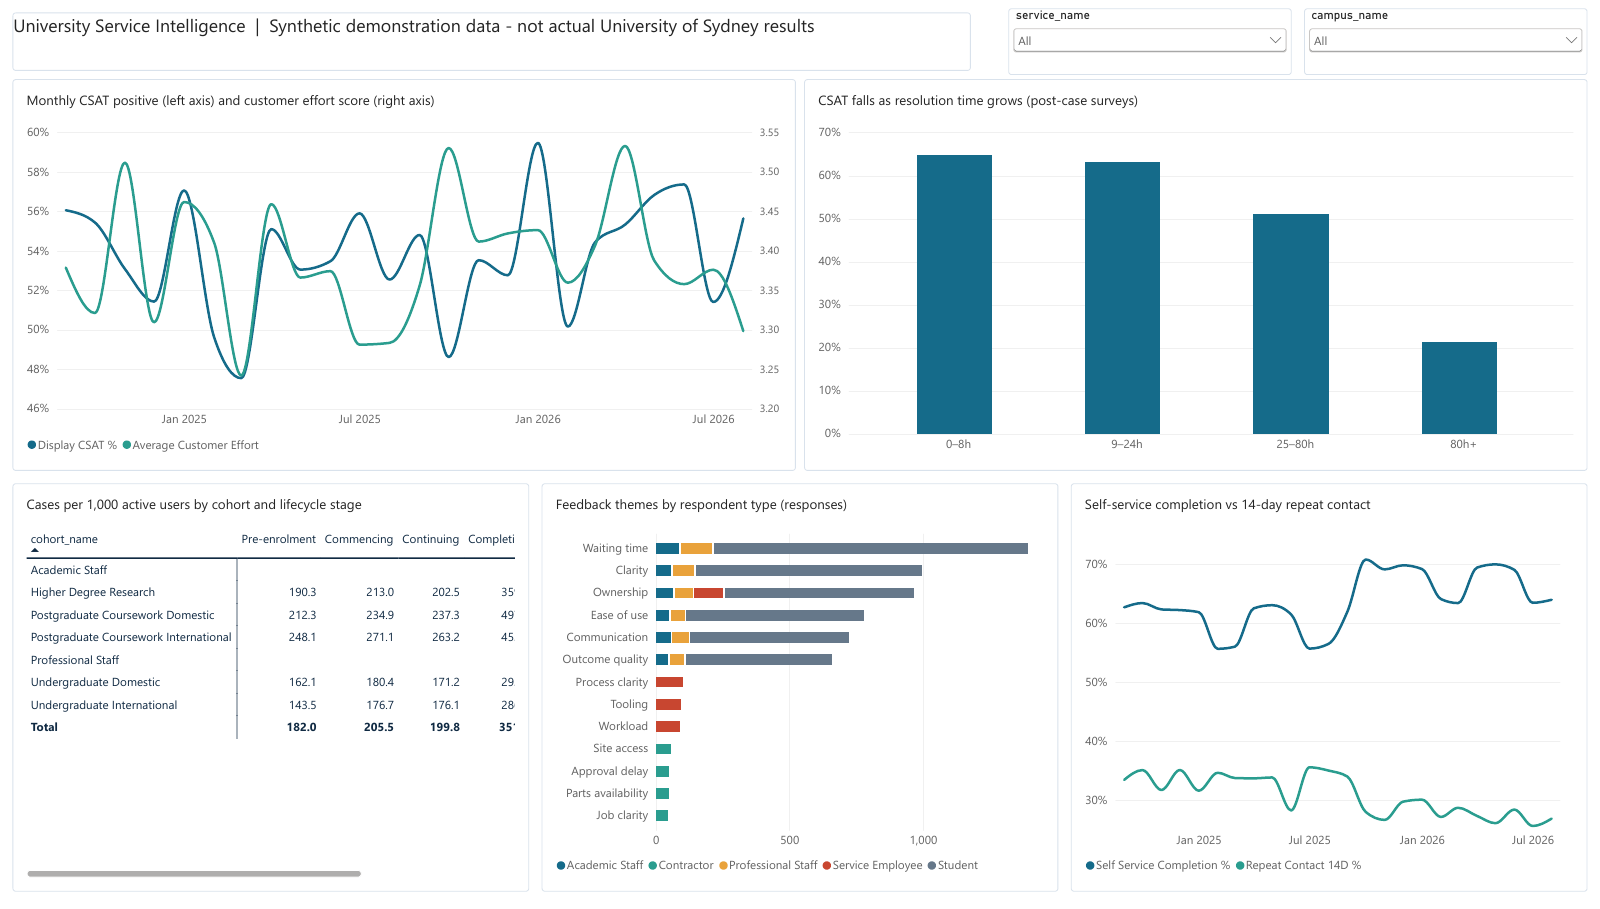

This screenshot's page, from the dashboard's own definition file:
{"tool":"powerbi","page":{"name":"Experience & Equity","canvas":[1920,1080],"ordinal":2},"visuals":[{"type":"lineChart","title":"Monthly CSAT positive (left axis) and customer effort score (right axis)","fields":{"Y":["_Measures.Display CSAT %"],"Y2":["_Measures.Average Customer Effort"],"Category":["DimDate.month_start"]},"box":[15,90,940,470],"z":0},{"type":"pivotTable","title":"Cases per 1,000 active users by cohort and lifecycle stage","fields":{"Rows":["DimCohort.cohort_name"],"Values":["_Measures.Display Cases per 1,000"],"Columns":["DimLifecycleStage.lifecycle_stage"]},"box":[15,575,620,490],"z":1000},{"type":"clusteredColumnChart","title":"CSAT falls as resolution time grows (post-case surveys)","fields":{"Category":["FactFeedback.resolution_time_band"],"Y":["_Measures.CSAT Positive %"]},"box":[965,90,940,470],"z":2000},{"type":"barChart","title":"Feedback themes by respondent type (responses)","fields":{"Category":["FactFeedback.feedback_theme"],"Y":["CountNonNull(FactFeedback.feedback_id)"],"Series":["FactFeedback.respondent_type"]},"box":[650,575,620,490],"z":3000},{"type":"lineChart","title":"Self-service completion vs 14-day repeat contact","fields":{"Y":["_Measures.Self Service Completion %","_Measures.Repeat Contact 14D %"],"Category":["DimDate.month_start"]},"box":[1285,575,620,490],"z":4000},{"type":"textbox","box":[15,10,1150,70],"z":4001},{"type":"slicer","fields":{"Values":["DimService.service_name"]},"box":[1210,5,340,80],"z":4002},{"type":"slicer","fields":{"Values":["DimCampus.campus_name"]},"box":[1565,5,340,80],"z":4003}]}

Visuals, with their boxes in screenshot pixels (x1, y1, x2, y2), scaled from the page's 1920x1080 canvas onto the 1600x909 screenshot:
"Monthly CSAT positive (left axis) and customer effort score (right axis)" lineChart: (12,76,796,471)
"Cases per 1,000 active users by cohort and lifecycle stage" pivotTable: (12,484,529,896)
"CSAT falls as resolution time grows (post-case surveys)" clusteredColumnChart: (804,76,1588,471)
"Feedback themes by respondent type (responses)" barChart: (542,484,1058,896)
"Self-service completion vs 14-day repeat contact" lineChart: (1071,484,1588,896)
textbox: (12,8,971,67)
slicer - DimService.service_name: (1008,4,1292,72)
slicer - DimCampus.campus_name: (1304,4,1588,72)
